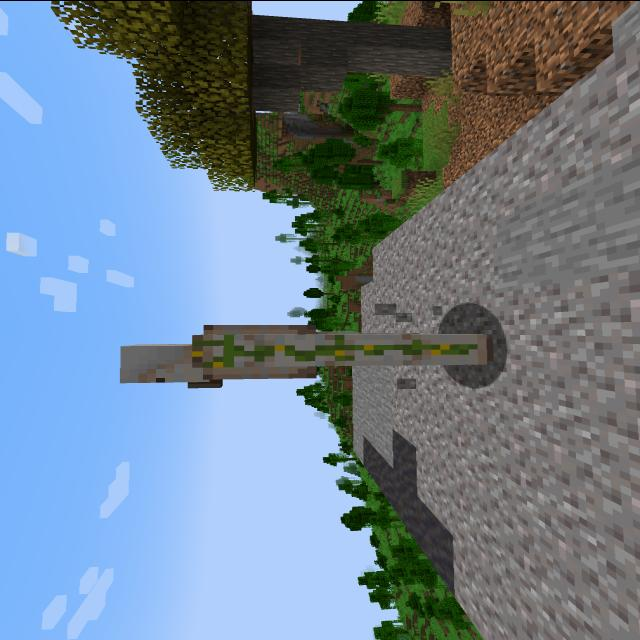iron golem: (97, 311, 519, 395)
